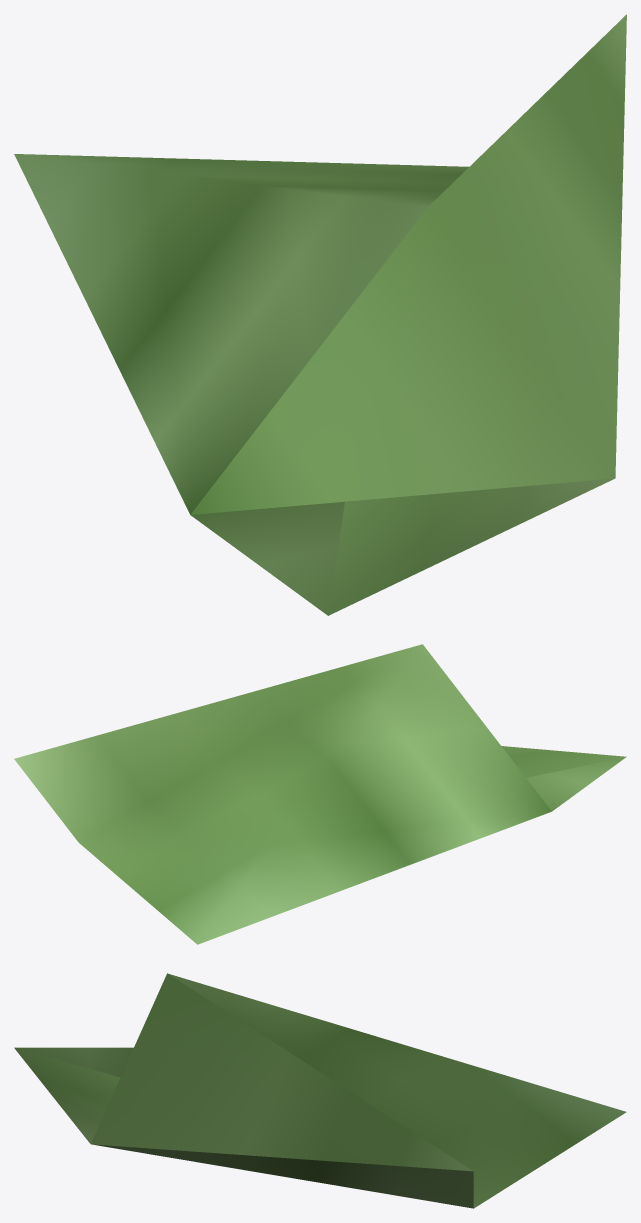
The picture shows the model from 3 angles, top to bottom: view 1: azimuth 30°, elevation 25°; view 2: azimuth 150°, elevation 25°; view 3: azimuth 270°, elevation 25°; orthographic projection. The views are drawn at different scales.
Parts seen in each view (by area): view 1: 30436272704361726716_0; view 2: 30436272704361726716_0; view 3: 30436272704361726716_0.
Part boxes in pixels (bbox=[...]): 30436272704361726716_0: bbox=[14, 14, 626, 615]; 30436272704361726716_0: bbox=[14, 644, 626, 944]; 30436272704361726716_0: bbox=[14, 973, 626, 1208].
Size of the model in its own units: 0.9203 by 0.3083 by 1.23.
1 material, 1 textured.
